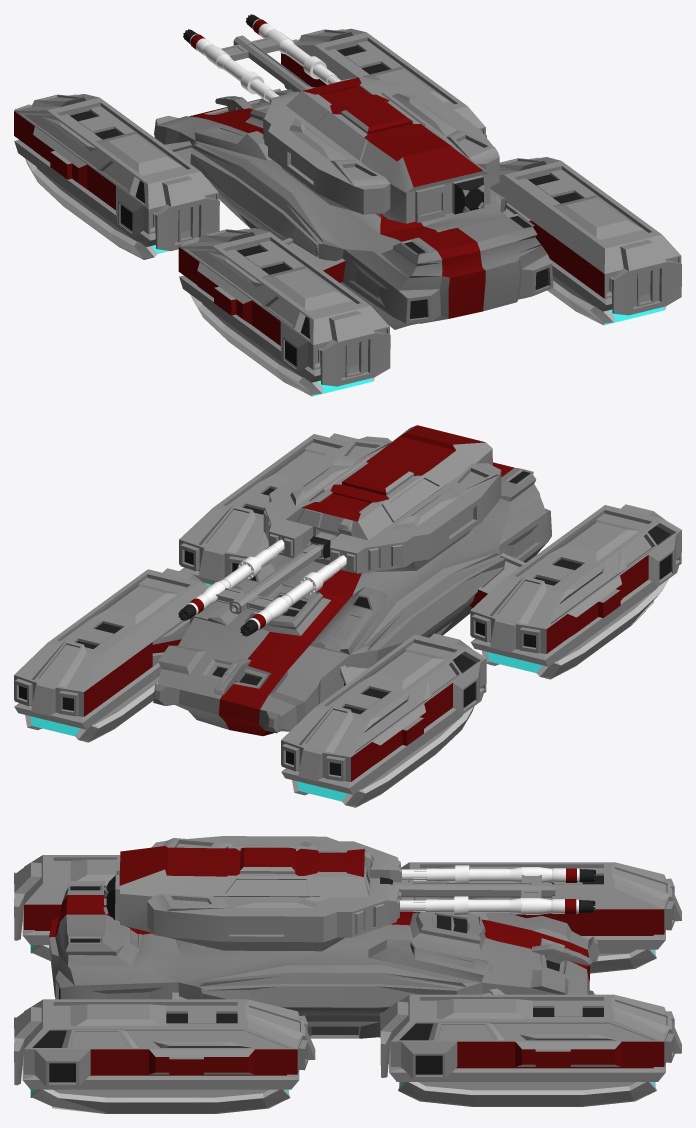
Rendered from Tank.fbx.
3 renders of one model, top to bottom at view 1: azimuth 30°, elevation 25°; view 2: azimuth 150°, elevation 25°; view 3: azimuth 270°, elevation 25°, orthographic.
Visible parts, largest first — view 1: group11_polySurface7, tank_base_group11, group11_polySurface14, guns; view 2: group11_polySurface7, tank_base_group11, group11_polySurface14, guns; view 3: group11_polySurface7, tank_base_group11, group11_polySurface14, guns.
Part boxes in pixels (left/top/right/bottom): group11_polySurface7: left=14, top=28, right=681, bottom=396; tank_base_group11: left=154, top=87, right=553, bottom=329; group11_polySurface14: left=263, top=77, right=499, bottom=223; guns: left=183, top=14, right=341, bottom=102; group11_polySurface7: left=14, top=433, right=681, bottom=807; tank_base_group11: left=153, top=462, right=551, bottom=736; group11_polySurface14: left=217, top=425, right=501, bottom=603; guns: left=178, top=539, right=346, bottom=636; group11_polySurface7: left=14, top=855, right=681, bottom=1113; tank_base_group11: left=49, top=884, right=599, bottom=1038; group11_polySurface14: left=103, top=836, right=541, bottom=951; guns: left=392, top=865, right=595, bottom=915.
Size of the model in its own units: 26.01 by 10.7 by 38.02.
